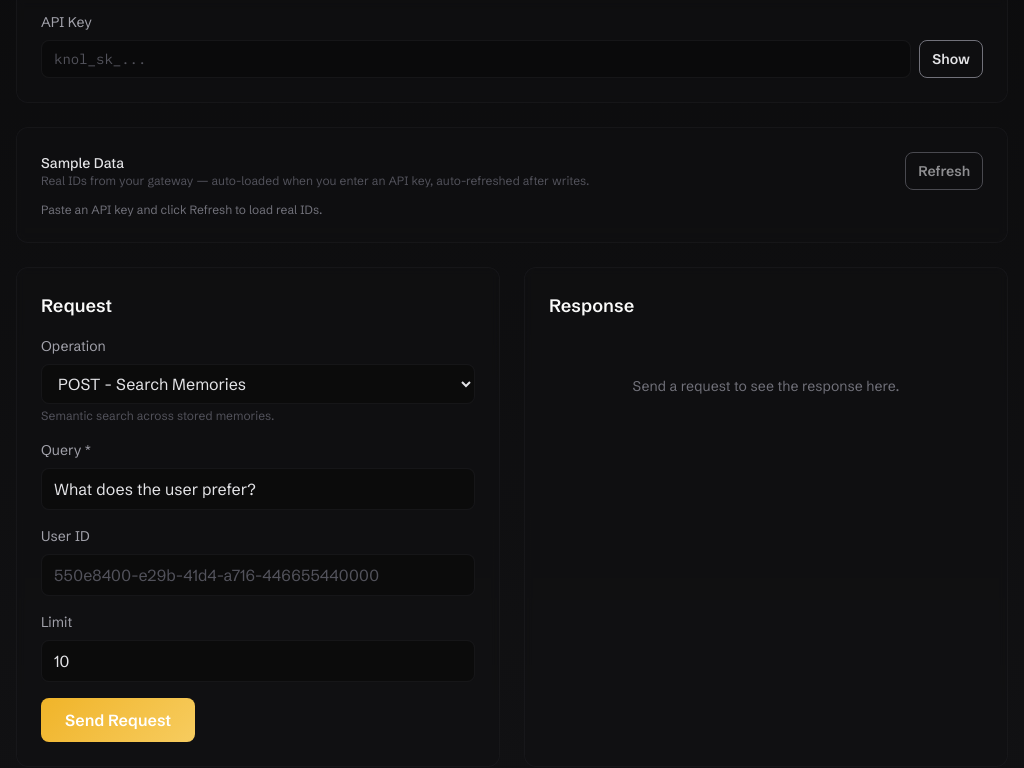
it: PlaygroundPage › changes fields when operation changes
(page scrolled)
Select "GET - Get Memory" in the dropdown labelled "Operation". click: (258, 384)
box: [41, 364, 475, 404]
(page scrolled)
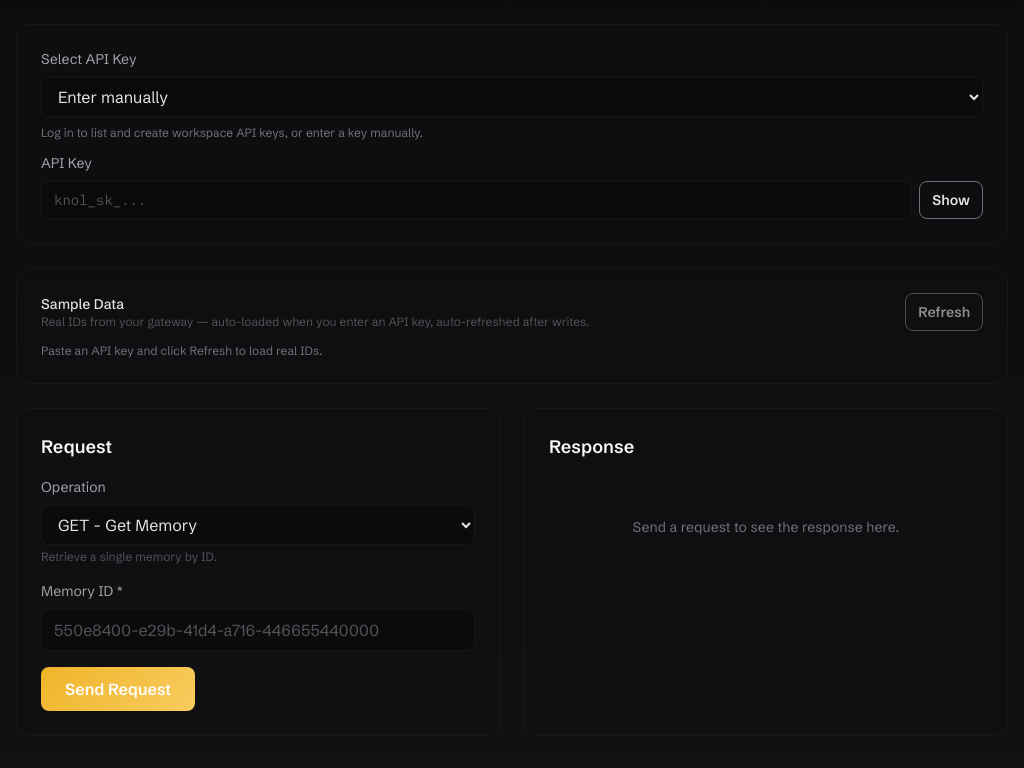
Expected: the field labelled "Memory ID *" is shown, [41, 609, 475, 651]
Expected: the label labelled "Query *" is gone
Expected: the text "Retrieve a single memory by ID." is shown, [41, 549, 217, 564]
